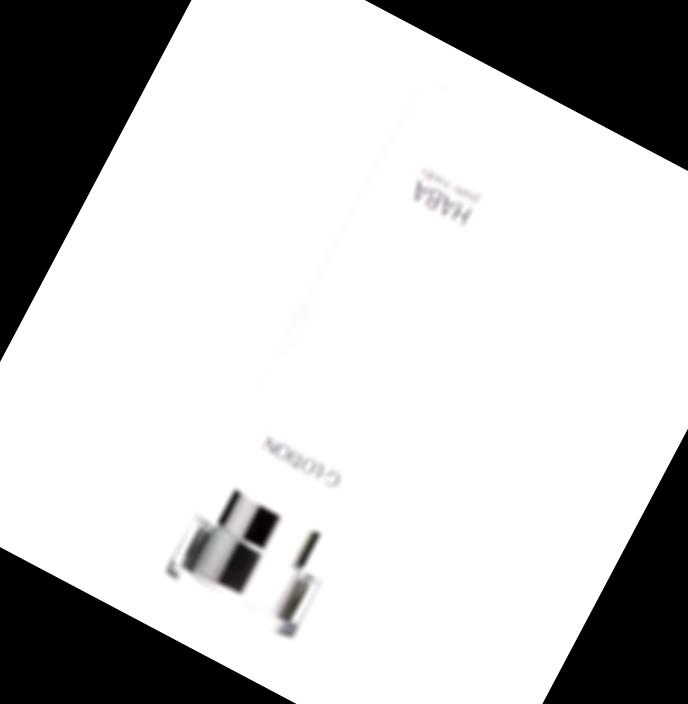cosmetic: (153, 73, 559, 645)
